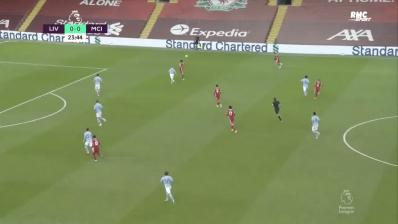football: (184, 53, 190, 60)
player: (159, 170, 177, 206), (225, 104, 239, 136), (92, 100, 108, 128), (88, 135, 104, 163), (308, 112, 323, 140), (92, 72, 104, 98), (82, 126, 92, 157), (299, 75, 311, 99), (213, 83, 224, 109), (313, 78, 324, 102), (271, 51, 284, 70), (178, 58, 188, 81), (168, 66, 178, 88)
referee: (270, 96, 284, 124)
